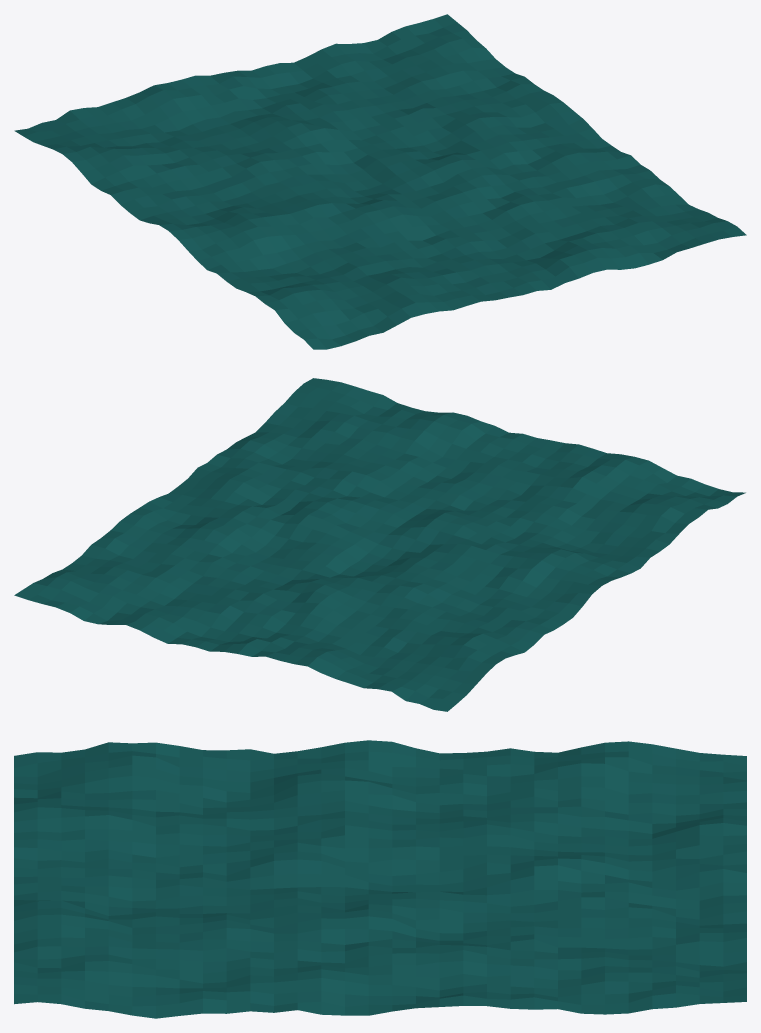
The model's file is LowPolyWater.glb.
3 renders of one model, top to bottom at view 1: azimuth 30°, elevation 25°; view 2: azimuth 150°, elevation 25°; view 3: azimuth 270°, elevation 25°, orthographic. The views are drawn at different scales.
Visible parts, largest first — view 1: Plane; view 2: Plane; view 3: Plane.
Boxes of the visible parts, x1,y1,x2,y2 form: Plane: [14, 14, 746, 349]; Plane: [14, 378, 745, 711]; Plane: [14, 740, 746, 1018].
Size of the model in its own units: 67.75 by 2.78 by 81.04.
